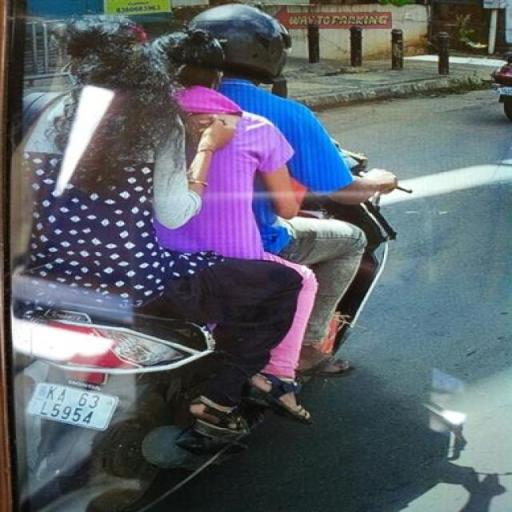tripple riding: (6, 0, 405, 295)
